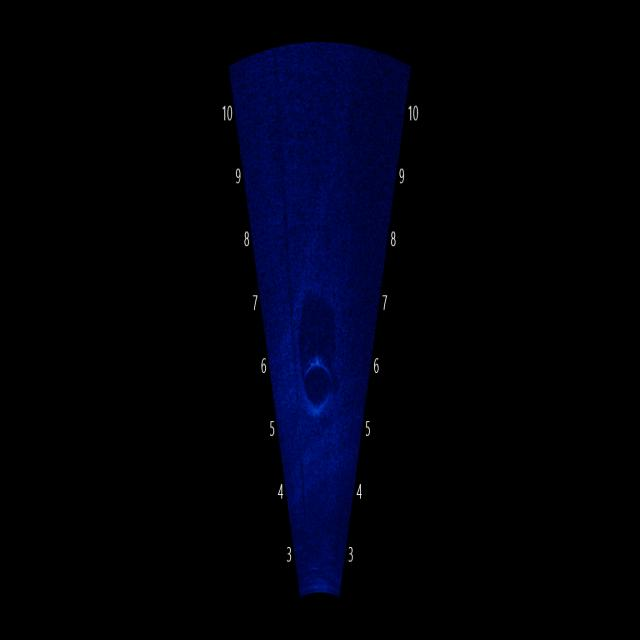circle: (294, 336, 347, 426)
